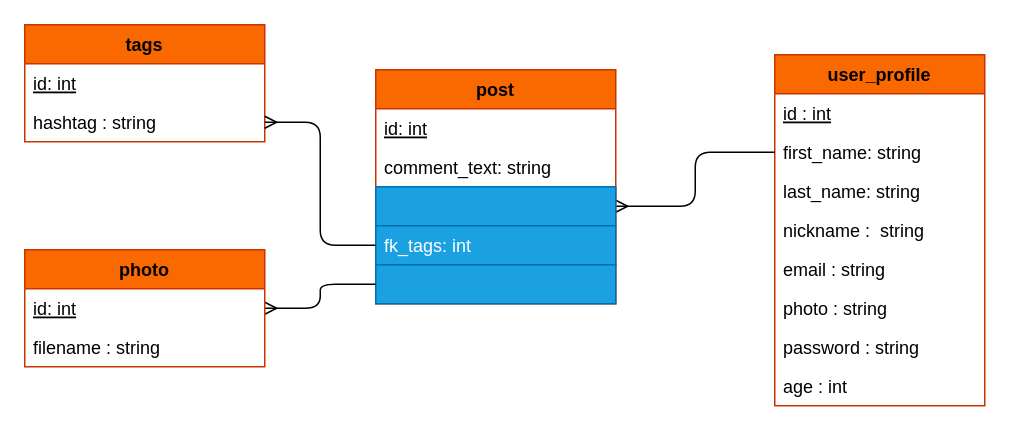
The diagram is 1010 pixels wide and 431 high, and some of its shapes have lost their labels. The shapes that lost their labels are listed below. From the top down, each one's centre as x and y in pixels, then its label:
At (495,205): "fk_user_profile: int".
At (495,283): "fk_photo: int".
